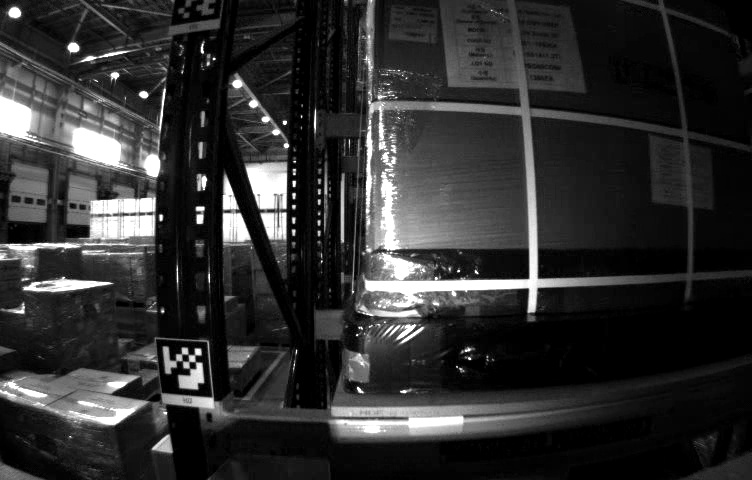True Barcode: (388, 2, 438, 47)
